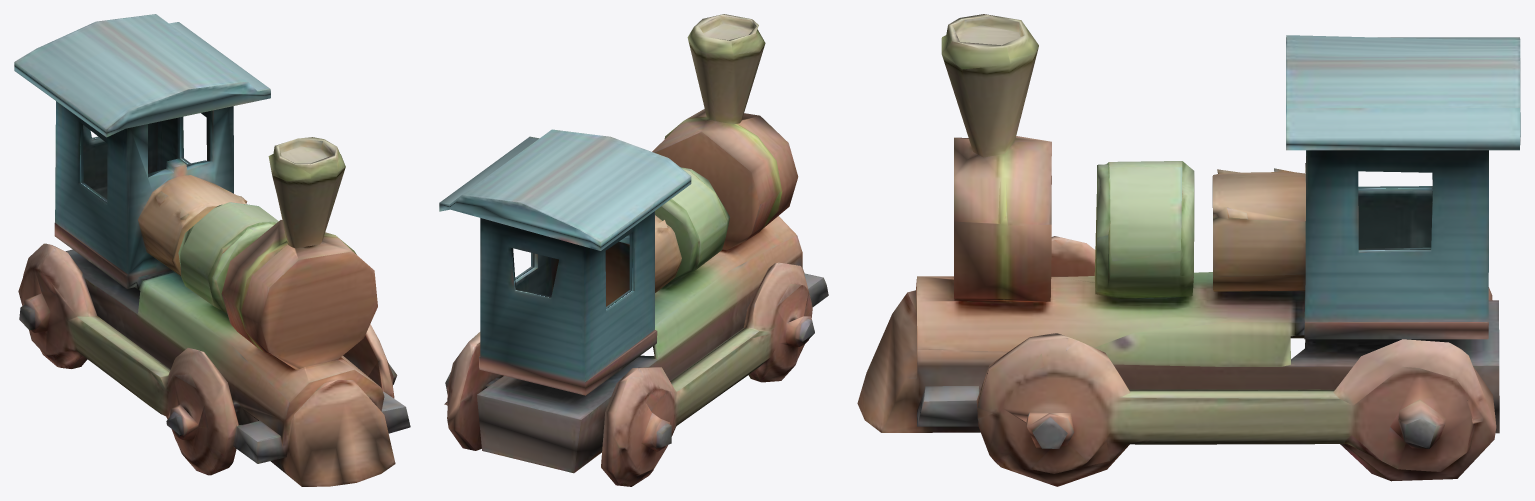
Rendered from toy_train.glb.
3 views of the same model, side by side, from view 1: azimuth 30°, elevation 25°; view 2: azimuth 150°, elevation 25°; view 3: azimuth 270°, elevation 25° (orthographic). The views are drawn at different scales.
Visible parts, largest first — view 1: toy_train; view 2: toy_train; view 3: toy_train.
Boxes of the visible parts, <box> form: toy_train: <box>14,14,410,486</box>; toy_train: <box>439,14,828,486</box>; toy_train: <box>857,14,1520,486</box>.
Size of the model in its own units: 0.4853 by 0.6734 by 0.9995.
Materials: 1 (1 with a texture image).
